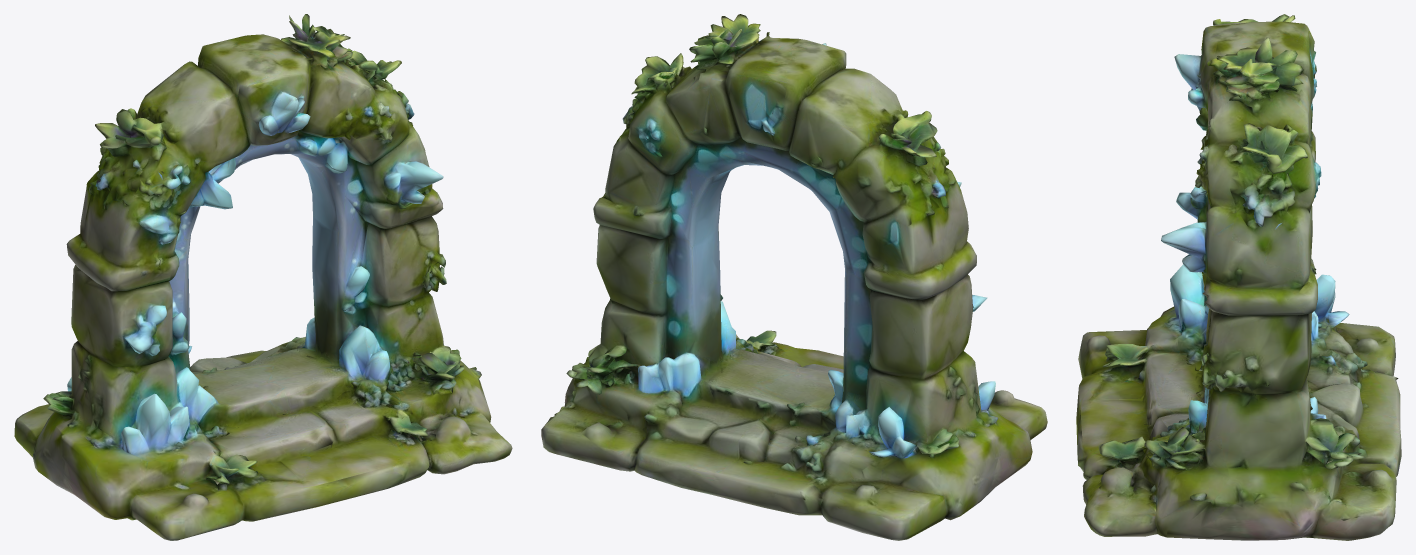
File: portal.glb
The picture shows the model from 3 angles, left to right: view 1: azimuth 30°, elevation 25°; view 2: azimuth 150°, elevation 25°; view 3: azimuth 270°, elevation 25°; orthographic projection. The views are drawn at different scales.
Bounding box in the file's own units: 2 × 1.98 × 1.35.
1 material, 1 textured.
